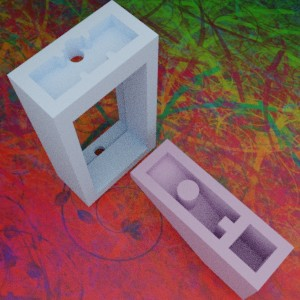lego: (7, 0, 158, 206), (130, 138, 294, 299)
